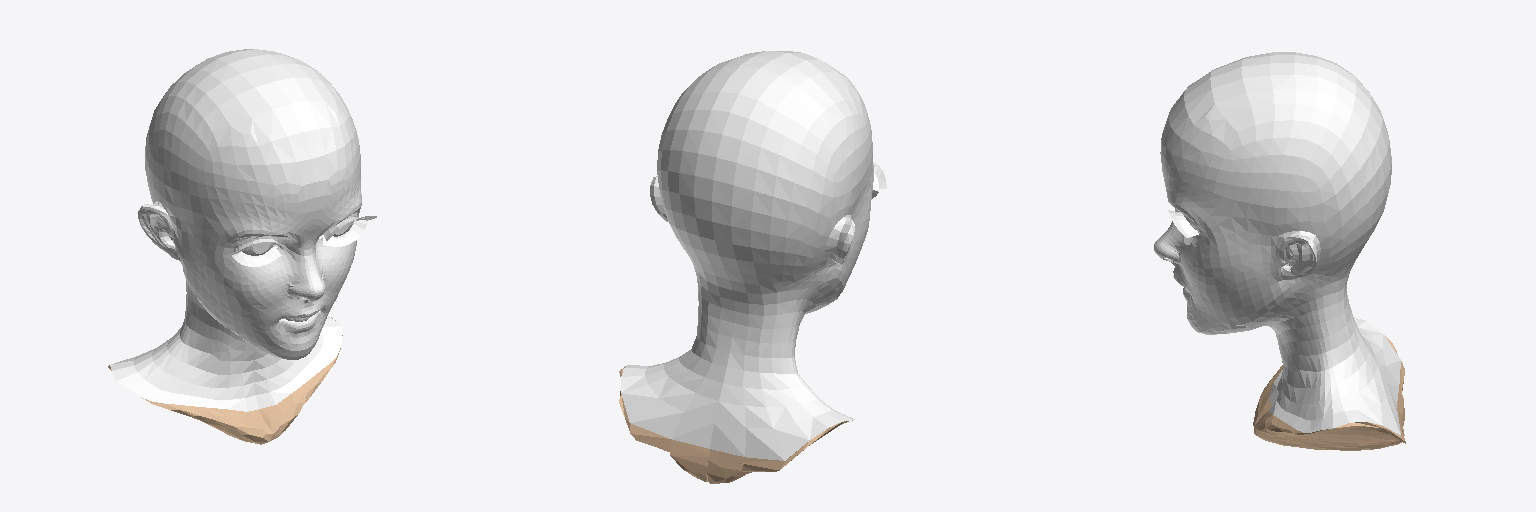
3 renders of one model, left to right at view 1: azimuth 30°, elevation 25°; view 2: azimuth 150°, elevation 25°; view 3: azimuth 270°, elevation 25°, orthographic.
Parts seen in each view (by area): view 1: Body, Eyelashes; view 2: Body; view 3: Body.
Boxes of the visible parts, x1,y1,x2,y2 form: Body: [110, 49, 361, 411]; Eyelashes: [232, 216, 376, 266]; Body: [621, 51, 873, 460]; Body: [1154, 52, 1400, 434].
Size of the model in its own units: 23 by 37.41 by 22.1.